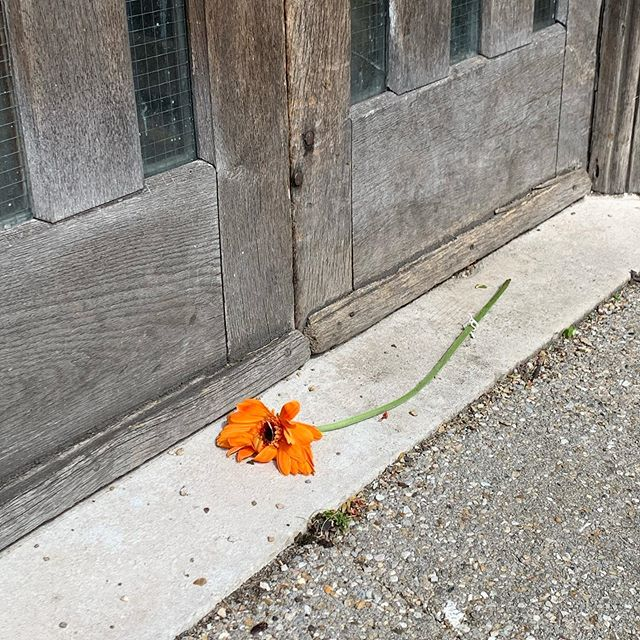flowers: (206, 256, 530, 496)
